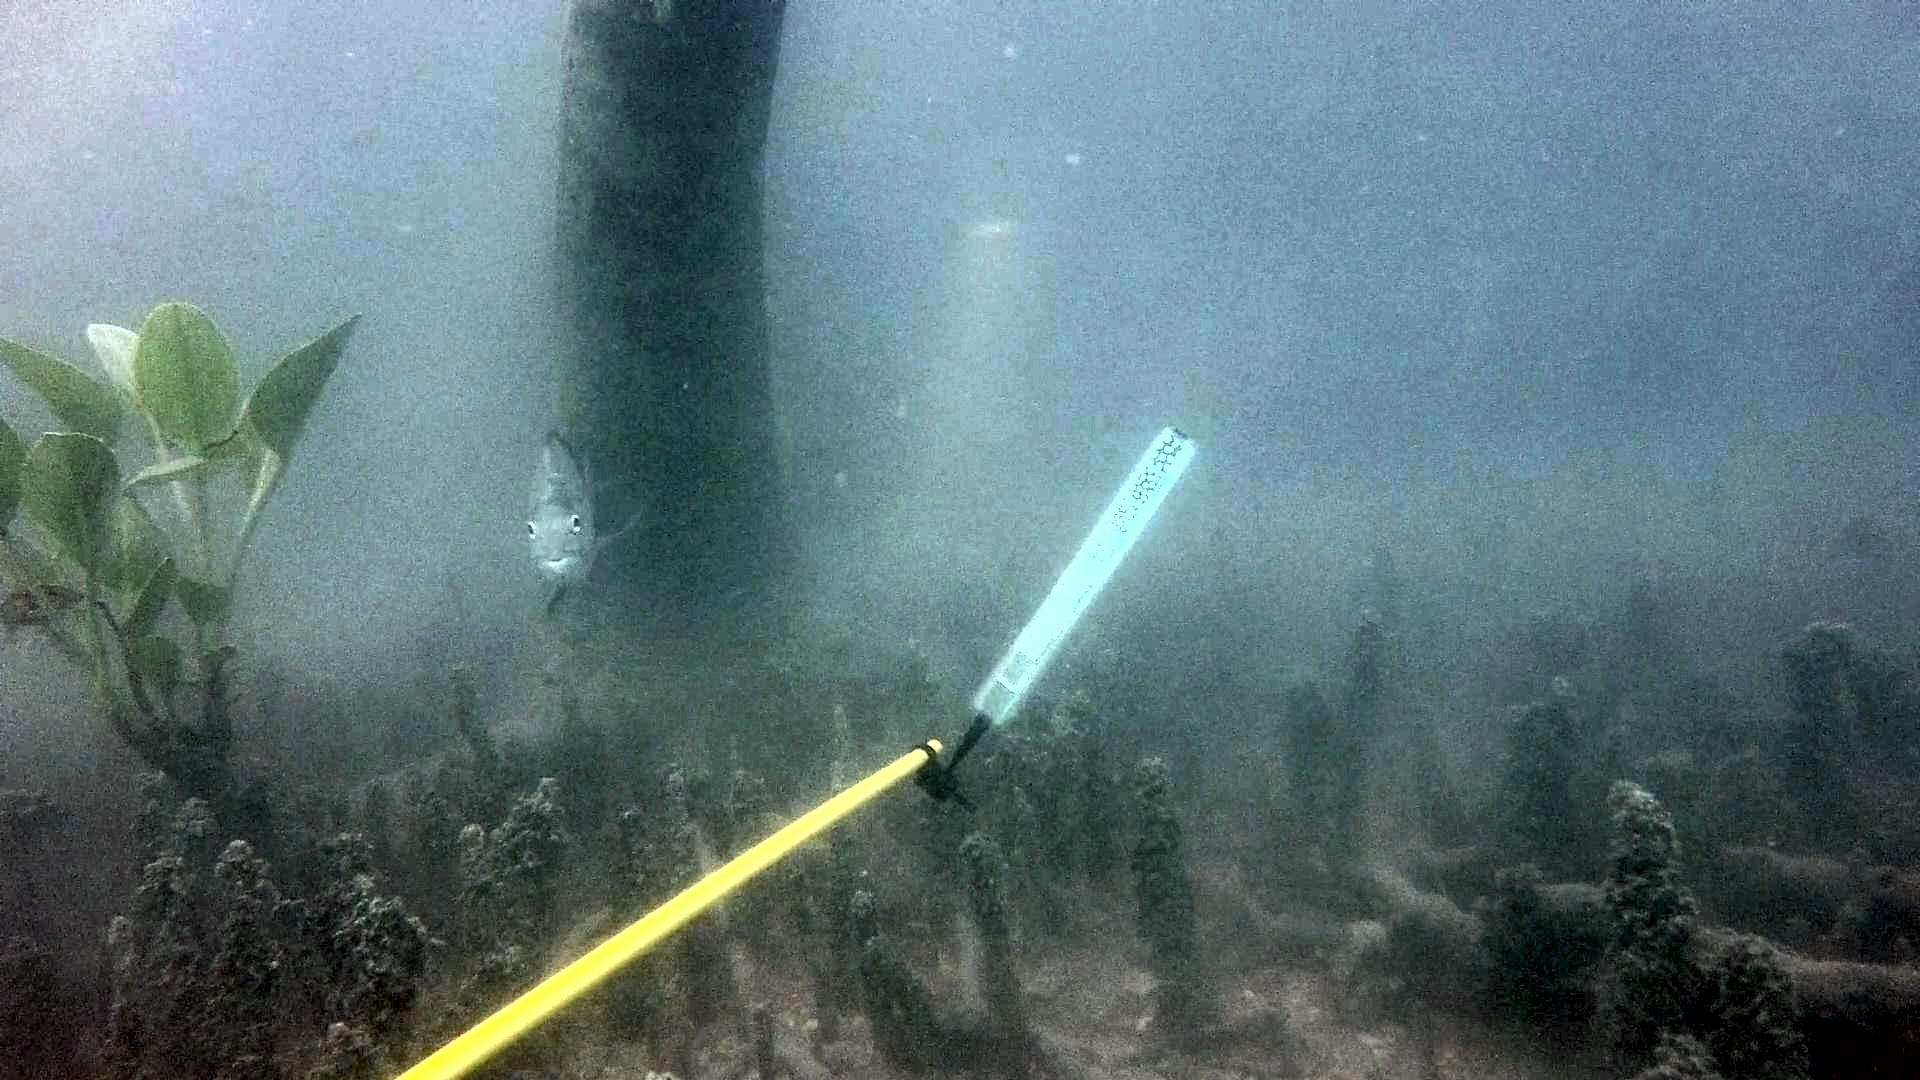acanthopagrus palmaris: (508, 416, 657, 631)
